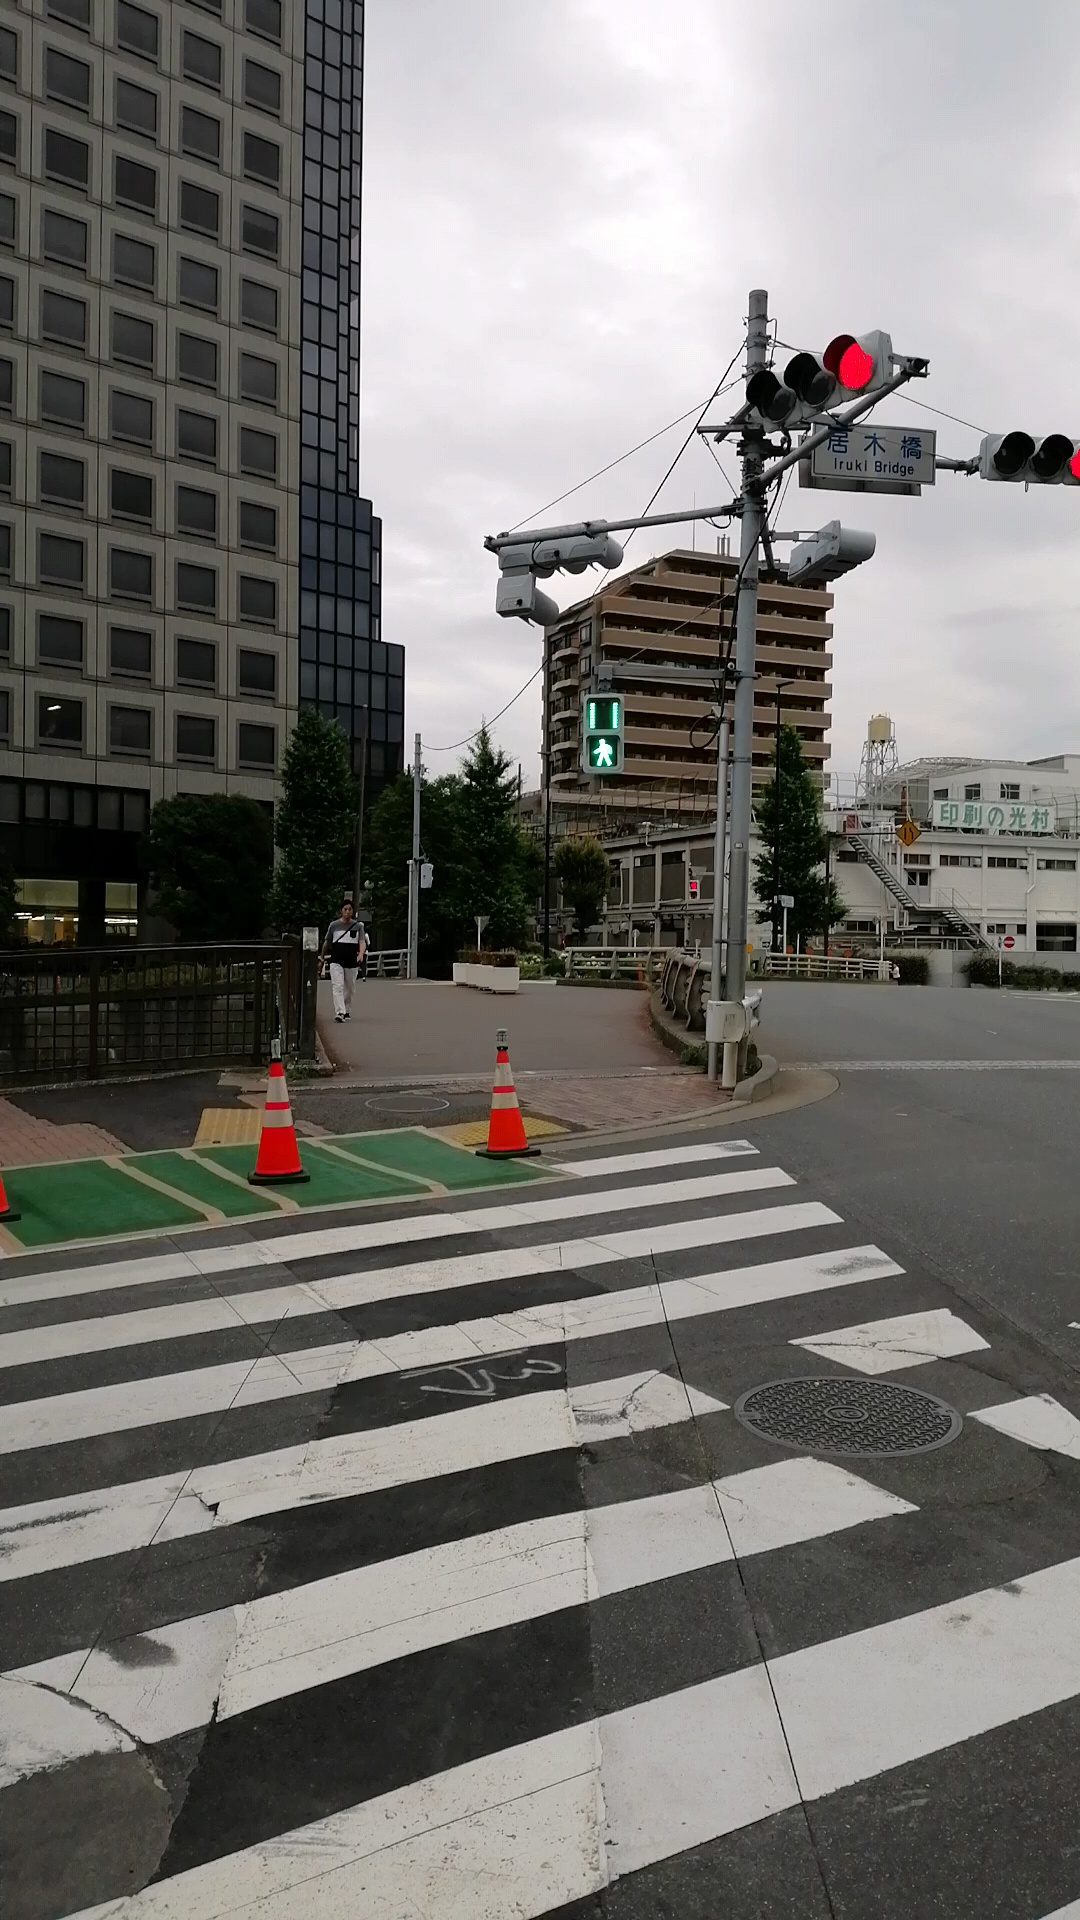green: (580, 694, 622, 774)
red: (688, 880, 700, 901)
